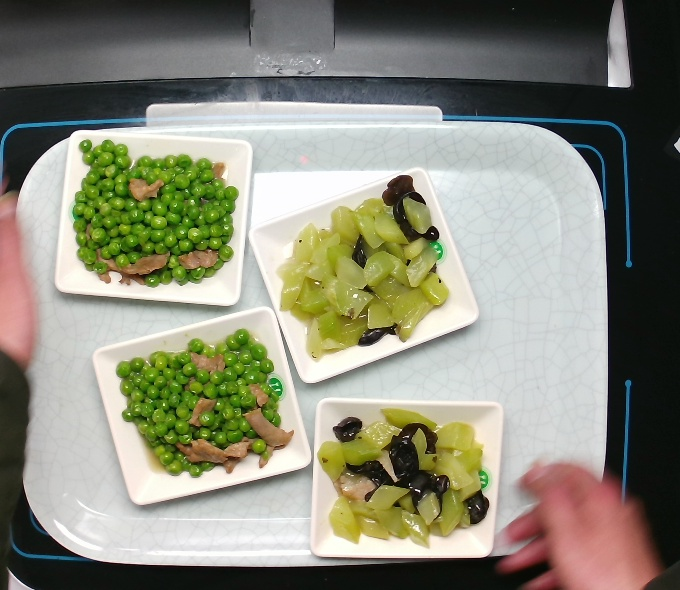wcq-CanDouRouSi: (70, 131, 247, 292), (112, 319, 289, 480)
wcq-WoSunKuai: (279, 169, 451, 361), (315, 412, 500, 554)
